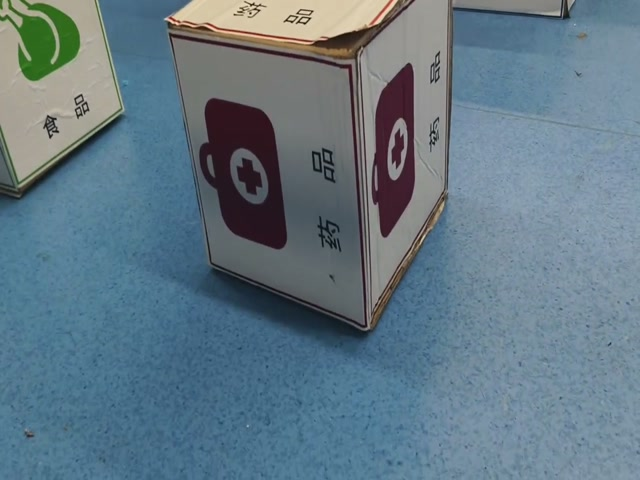Cube_medicine: (165, 0, 433, 54)
